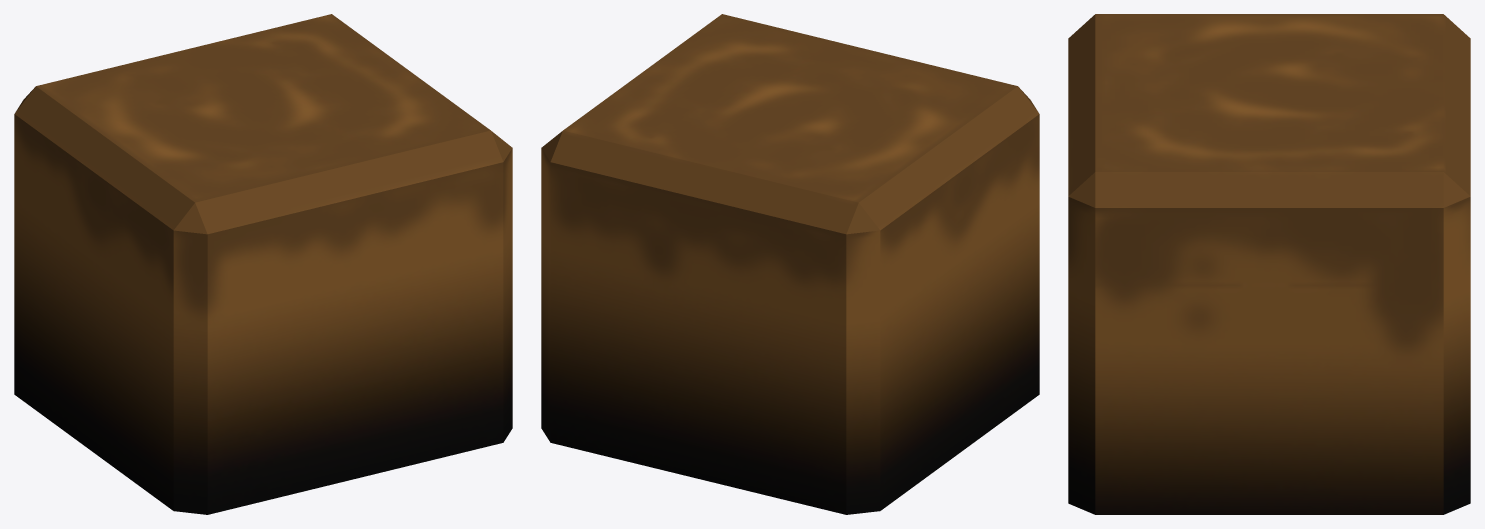
File: bajo.FBX
The picture shows the model from 3 angles, left to right: view 1: azimuth 30°, elevation 25°; view 2: azimuth 150°, elevation 25°; view 3: azimuth 270°, elevation 25°; orthographic projection. The views are drawn at different scales.
Visible parts, largest first — view 1: bajo; view 2: bajo; view 3: bajo.
Boxes of the visible parts, left/top/right/bottom form: bajo: left=14, top=14, right=512, bottom=514; bajo: left=541, top=14, right=1039, bottom=514; bajo: left=1068, top=14, right=1470, bottom=514.
Size of the model in its own units: 47.16 by 40.3 by 44.35.
